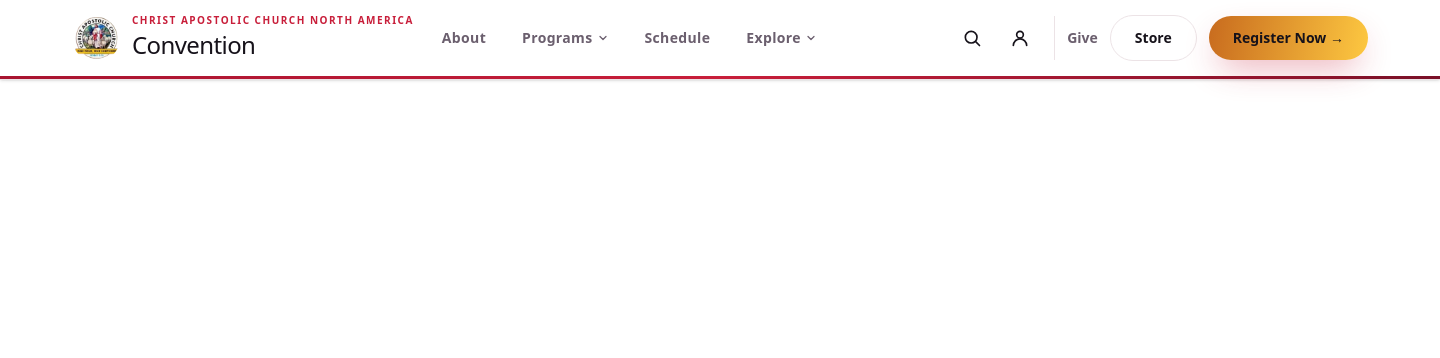
Test: PrimaryNav › Explore dropdown (desktop) › closes when a link is clicked
This screenshot has width=1440, height=358.
Step 1. Click the button "Explore" → (782, 38), box [742,22,821,54]
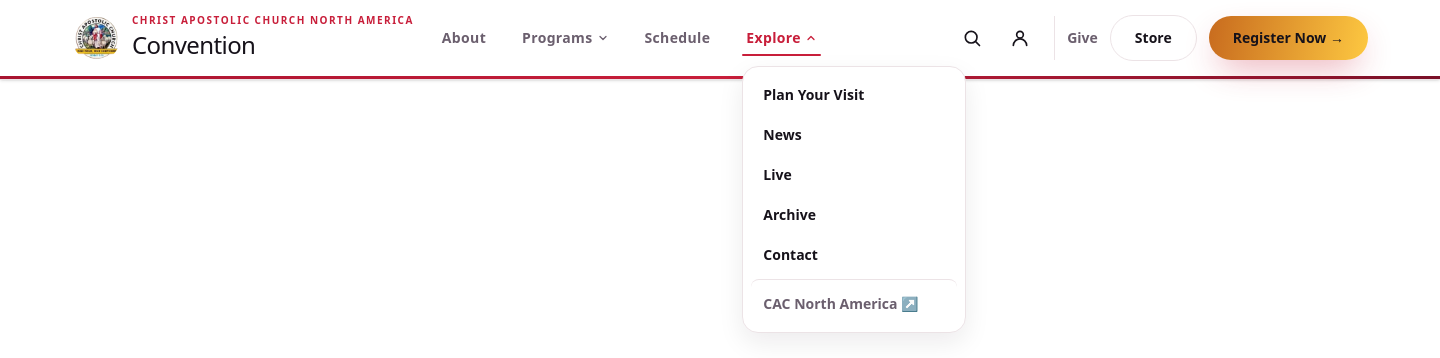
Step 2. Click the link "News" → (782, 134), box [763,125,802,144]
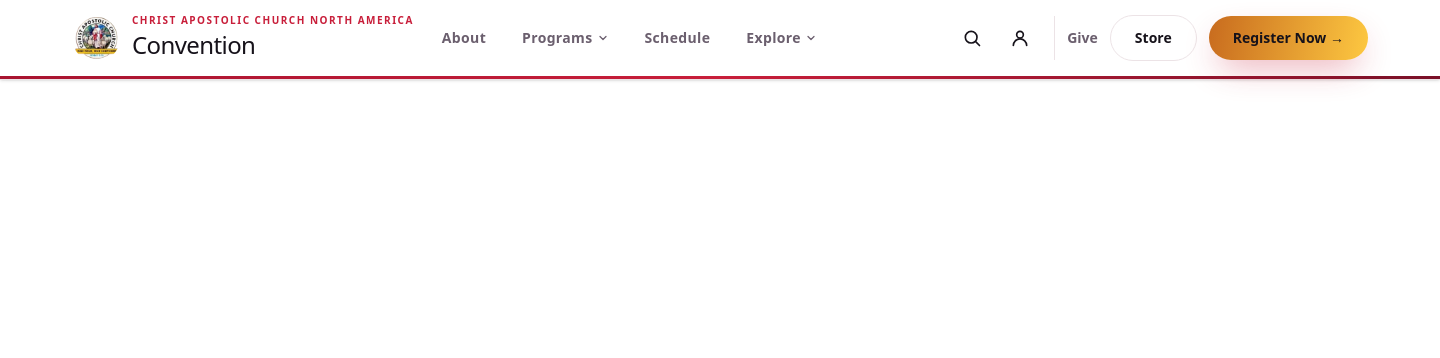
Expected: the element with id "explore-menu" is gone
